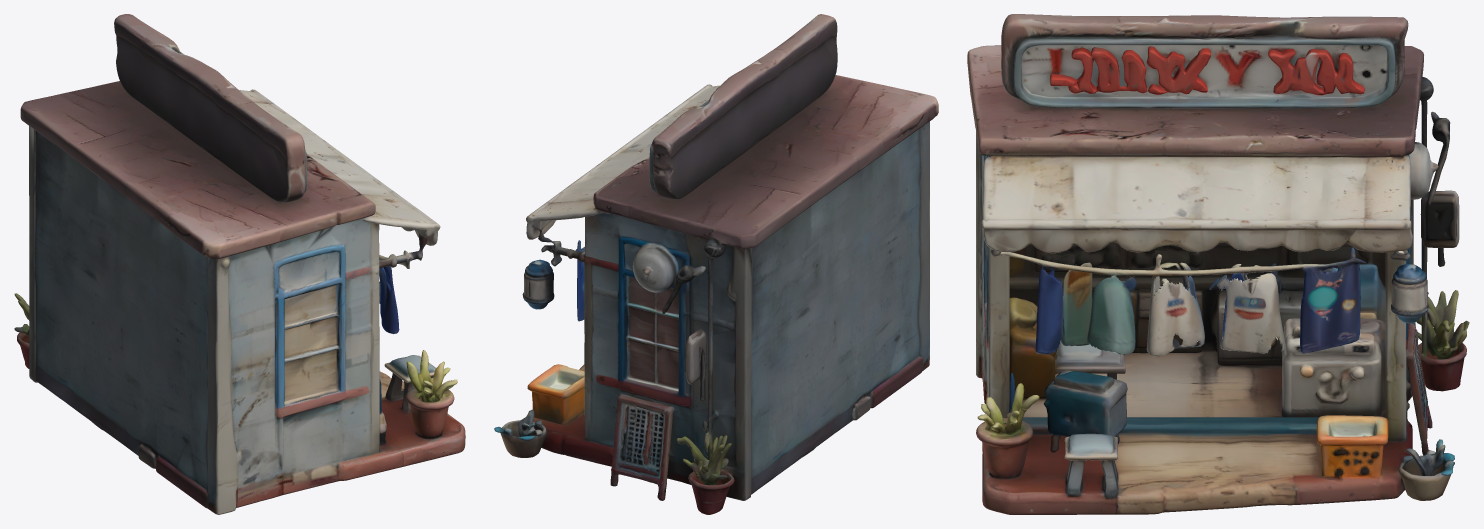
The model's file is building-laundry.glb.
The picture shows the model from 3 angles, left to right: view 1: azimuth 30°, elevation 25°; view 2: azimuth 150°, elevation 25°; view 3: azimuth 270°, elevation 25°; orthographic projection. The views are drawn at different scales.
Visible parts, largest first — view 1: tripo_node_6642381b-92da-4700-88af-5a840bd2dfda; view 2: tripo_node_6642381b-92da-4700-88af-5a840bd2dfda; view 3: tripo_node_6642381b-92da-4700-88af-5a840bd2dfda.
Boxes of the visible parts, x1,y1,x2,y2 form: tripo_node_6642381b-92da-4700-88af-5a840bd2dfda: (14,14,465,514); tripo_node_6642381b-92da-4700-88af-5a840bd2dfda: (494,14,938,514); tripo_node_6642381b-92da-4700-88af-5a840bd2dfda: (967,14,1469,514).
Size of the model in its own units: 3.97 by 5 by 5.44.
1 material, 1 textured.
